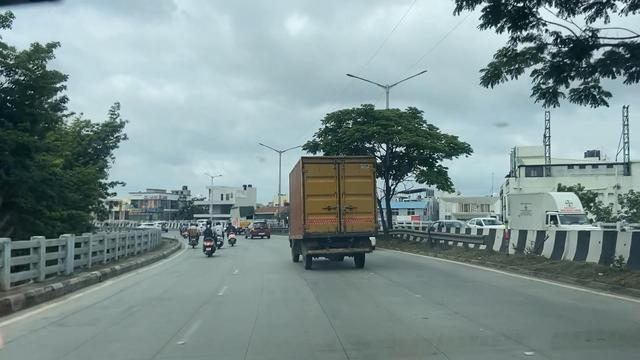HMV: (286, 153, 379, 269)
LMV: (199, 218, 216, 262), (222, 220, 244, 254), (248, 215, 270, 243)
